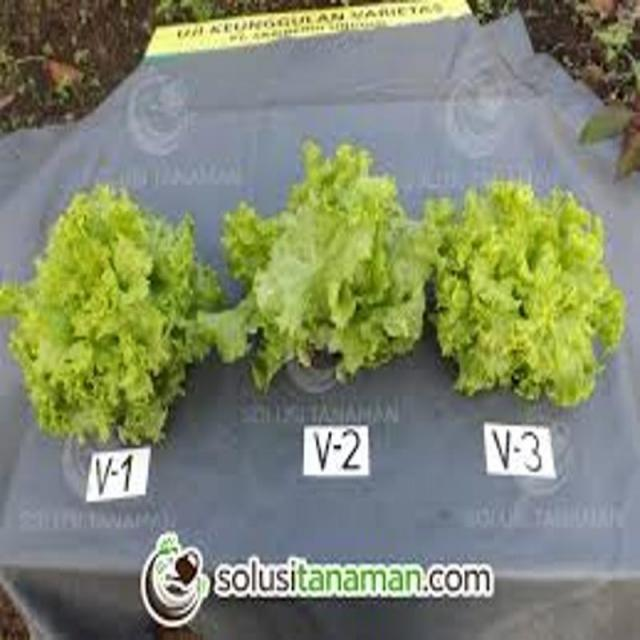Lettuce: (7, 182, 213, 452), (210, 138, 428, 392), (415, 174, 623, 404)
